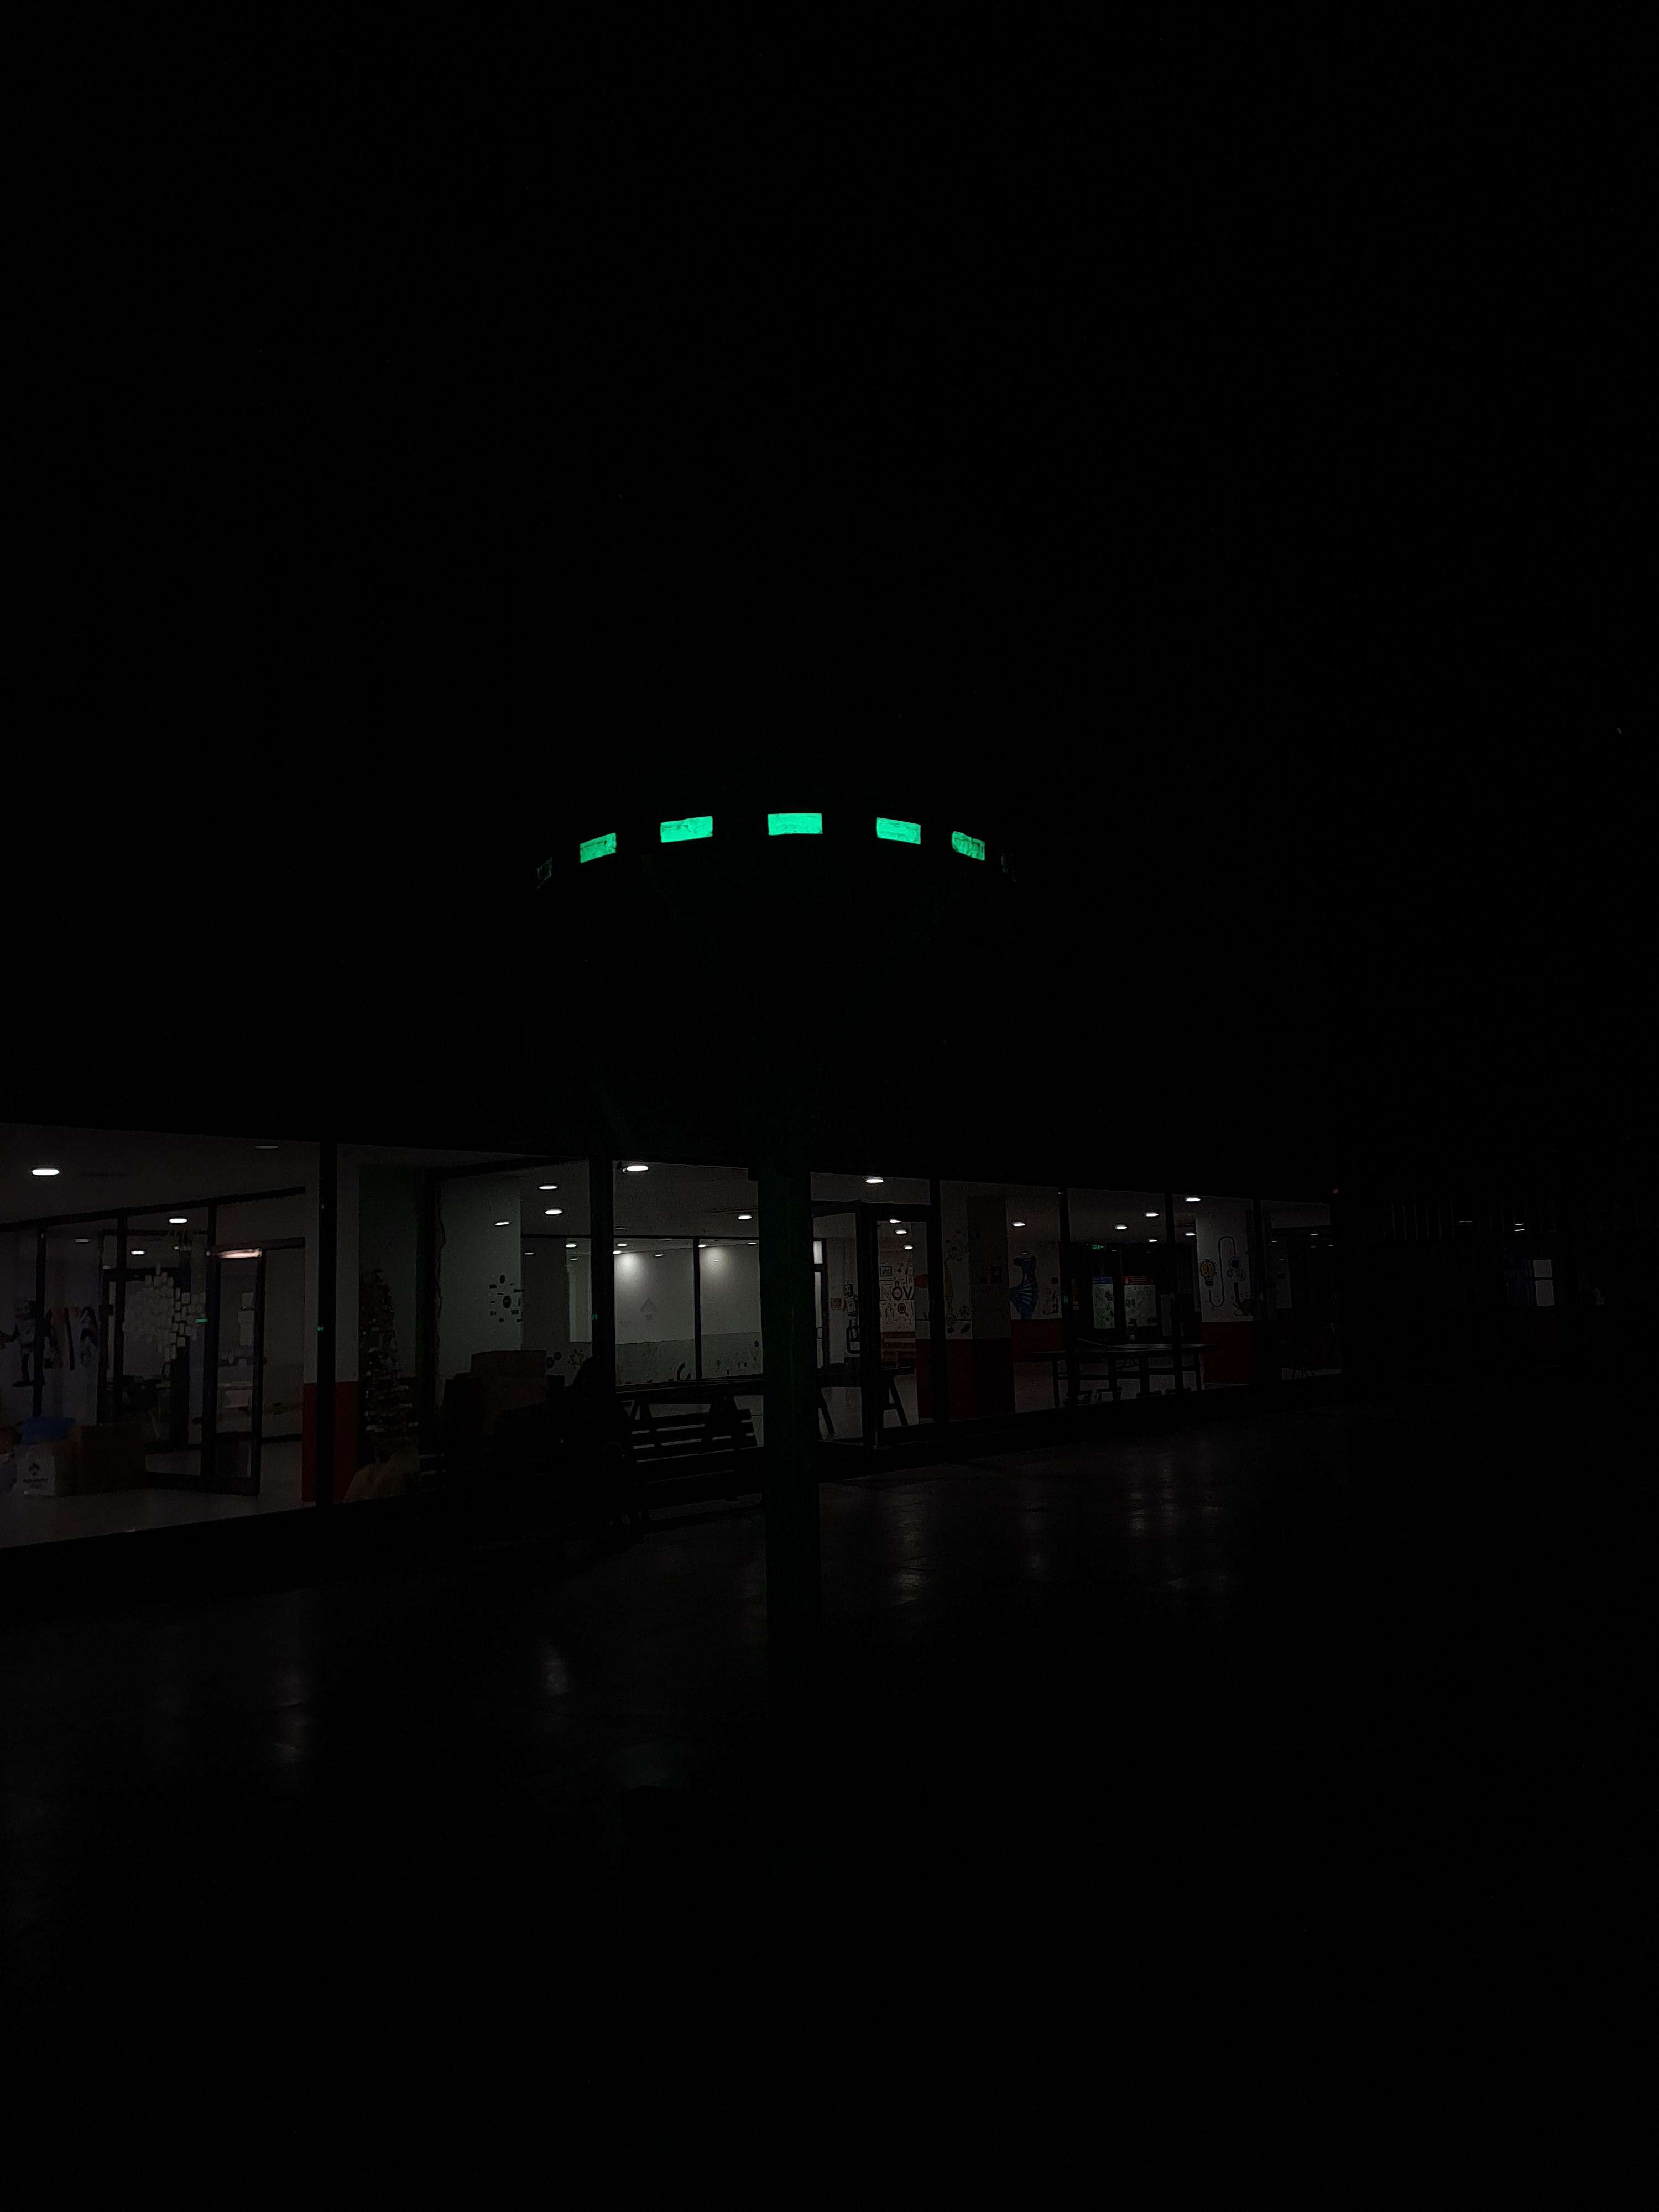hoop: (570, 806, 992, 873)
